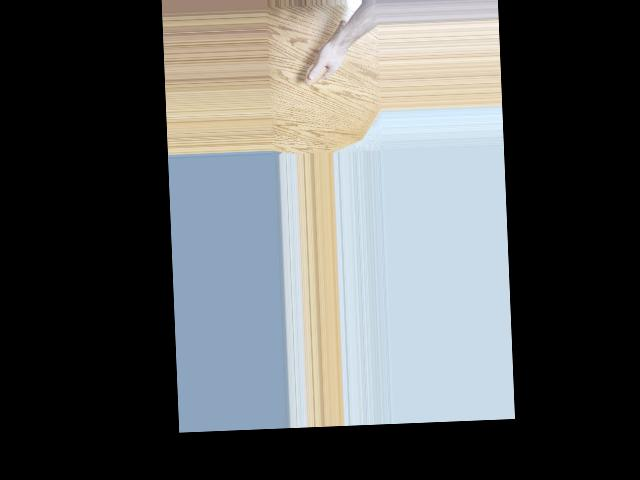sweet_potato: (301, 18, 348, 87)
